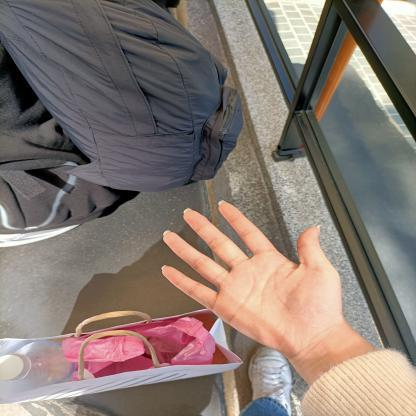bare_hand: (145, 191, 352, 361)
